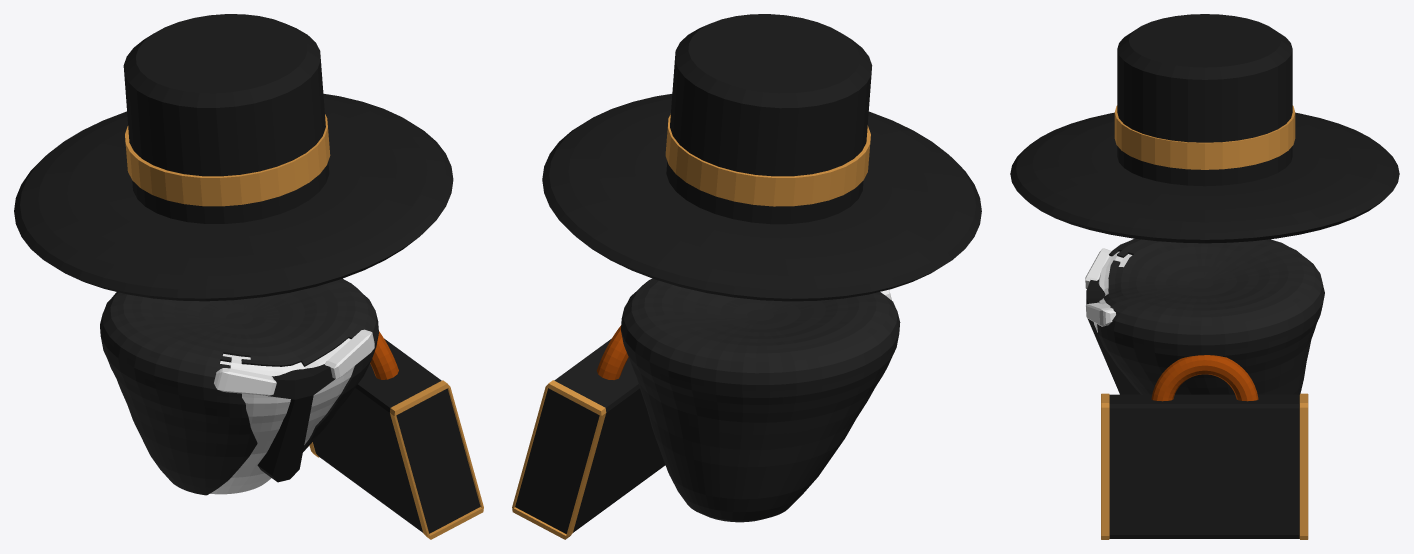
Rendered from BusinessSuitOutfit.fbx.
The picture shows the model from 3 angles, left to right: view 1: azimuth 30°, elevation 25°; view 2: azimuth 150°, elevation 25°; view 3: azimuth 270°, elevation 25°; orthographic projection. The views are drawn at different scales.
Parts seen in each view (by area): view 1: Torus.050, Cube.002, Cube, Cylinder, Cube.001, Torus; view 2: Torus.050, Cube.002, Cube, Cylinder, Cube.003, Torus; view 3: Torus.050, Cube.002, Cube, Cylinder, Torus, Cube.003, Cube.001.
Boxes of the visible parts, x1,y1,x2,y2 form: Torus.050: (14,14,453,301); Cube.002: (100,278,378,495); Cube: (313,338,480,533); Cylinder: (125,114,330,206); Cube.001: (390,380,483,539); Torus: (370,331,398,379); Torus.050: (542,14,981,301); Cube.002: (621,278,900,522); Cube: (515,338,665,533); Cylinder: (665,114,870,206); Cube.003: (512,380,606,539); Torus: (596,325,628,379); Torus.050: (1010,14,1399,243); Cube.002: (1085,238,1324,394); Cube: (1109,394,1299,538); Cylinder: (1114,105,1295,169); Torus: (1151,355,1258,401); Cube.003: (1299,393,1308,539); Cube.001: (1101,393,1109,539).
Bounding box in the file's own units: 318 × 387 × 317.
